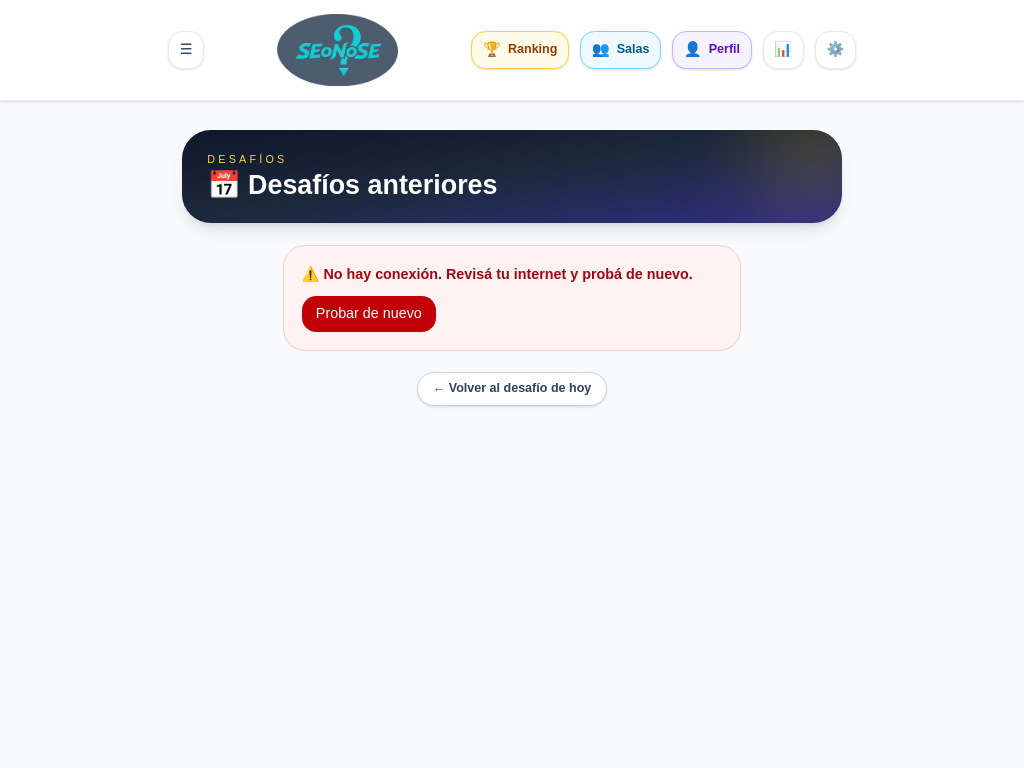
Test case: archivo en calendario › error de conexión con reintento
Click the button "Probar de nuevo": (369,314) top-left (302, 296), bottom-right (436, 332)
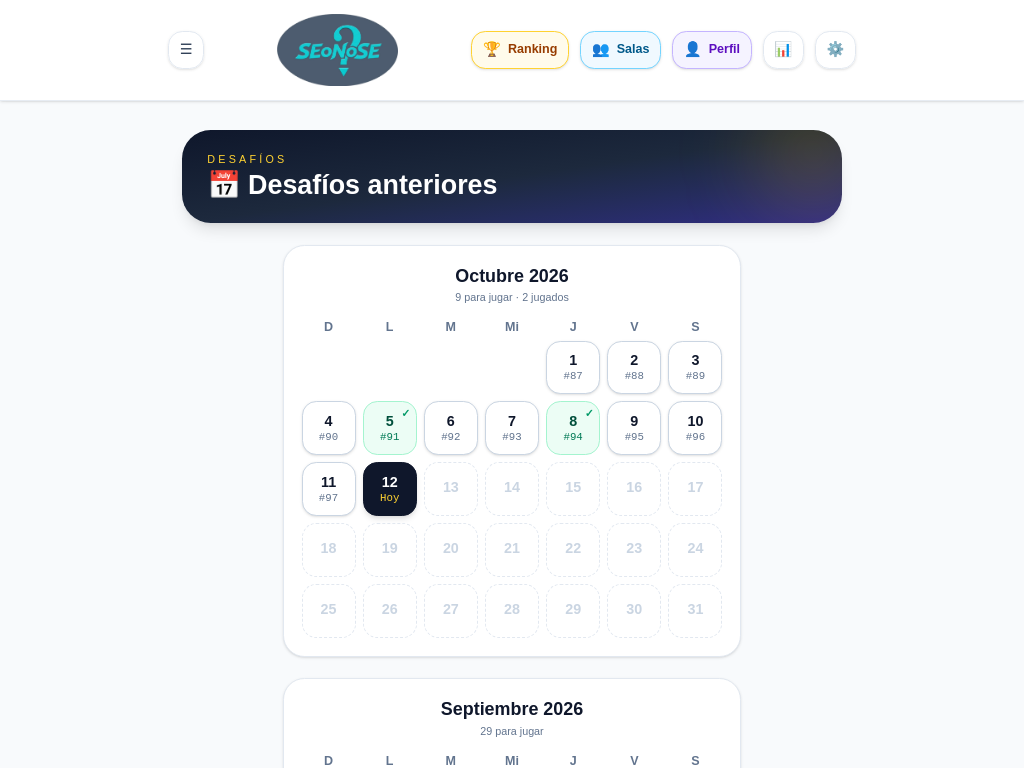
Expected: the heading "Octubre 2026" is shown, top-left (455, 266), bottom-right (569, 286)
